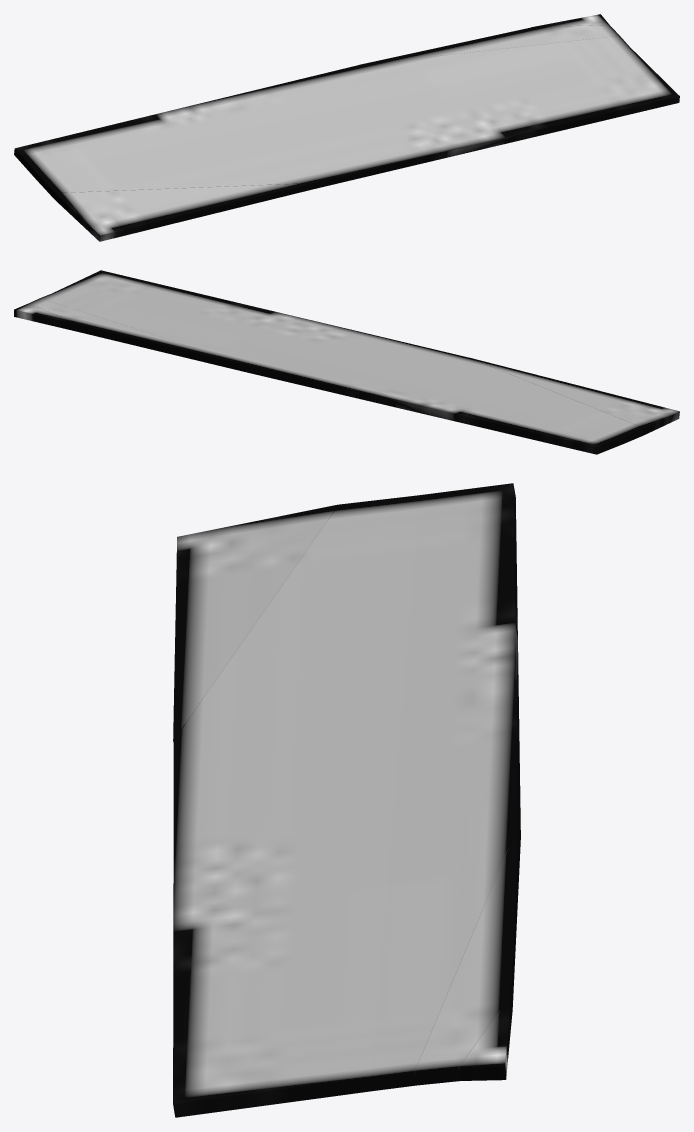
Rendered from leftInnerSpoiler.dae.
3 renders of one model, top to bottom at view 1: azimuth 30°, elevation 25°; view 2: azimuth 150°, elevation 25°; view 3: azimuth 270°, elevation 25°, orthographic. The views are drawn at different scales.
Parts seen in each view (by area): view 1: group_0; view 2: group_0; view 3: group_0.
Part boxes in pixels (bbox=[...]): group_0: bbox=[14, 14, 679, 241]; group_0: bbox=[14, 270, 679, 454]; group_0: bbox=[173, 483, 520, 1117].
Bounding box in the file's own units: 104 × 26.63 × 5.77.
Materials: 1 (1 with a texture image).
